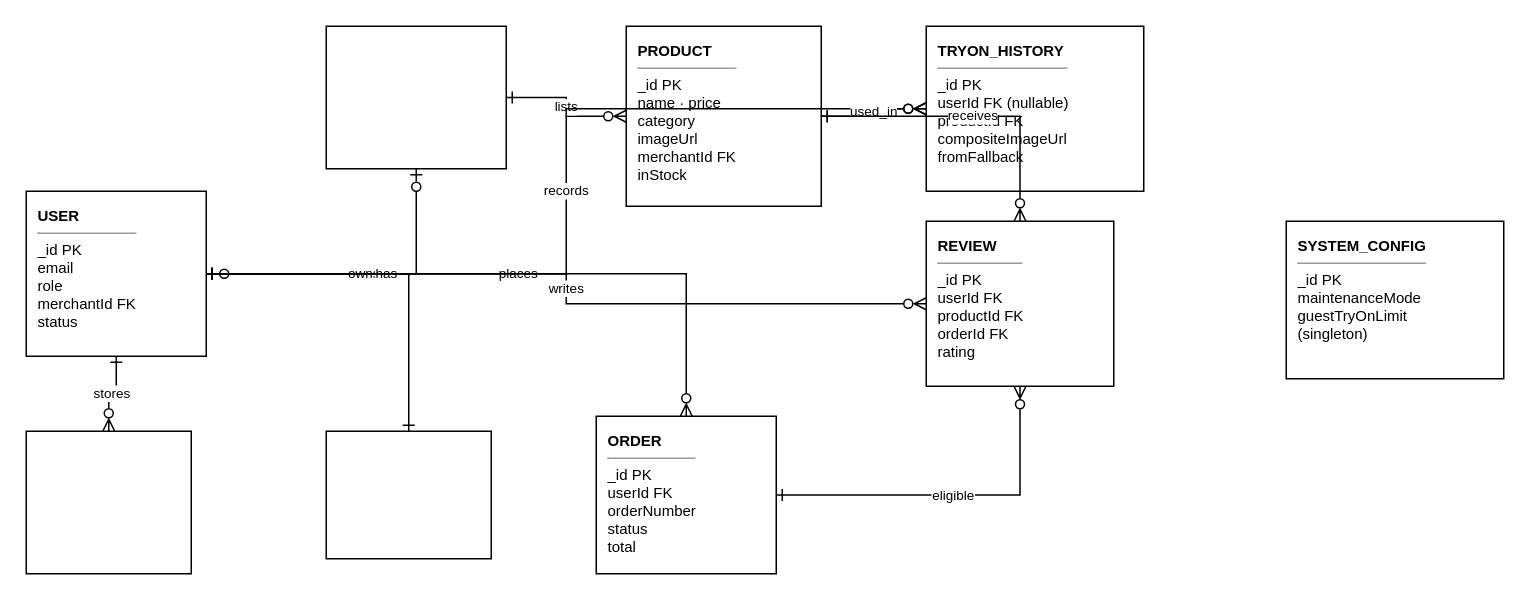
The diagram is 1530 pixels wide and 600 high, and some of its shapes have lost their labels. The shapes that lost their labels are listed below. From the top down, each one's centre as x and y in pixels, then its label:
At pixel 415 97: "MERCHANT _id PK name ownerId FK status".
At pixel 108 502: "ADDRESS _id PK userId FK line1 isDefault".
At pixel 408 494: "CART _id PK userId FK items[]".
